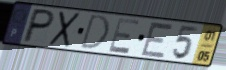5: (171, 24, 200, 61)
D: (78, 13, 110, 51)
E: (139, 20, 176, 60), (107, 16, 143, 56)
P: (20, 7, 57, 44)
X: (47, 10, 83, 50)
